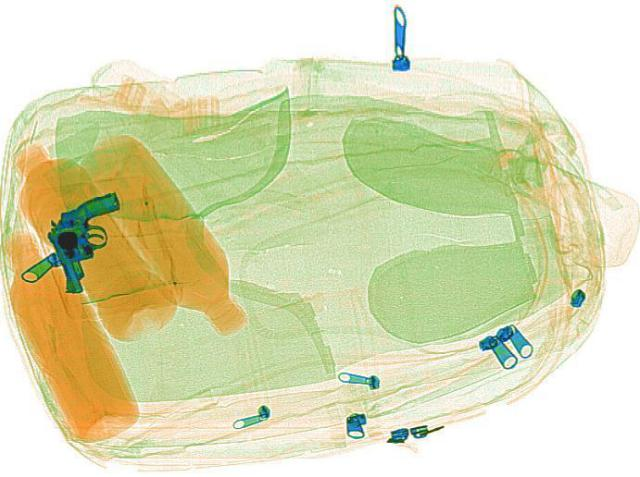Gun: (37, 192, 141, 295)
